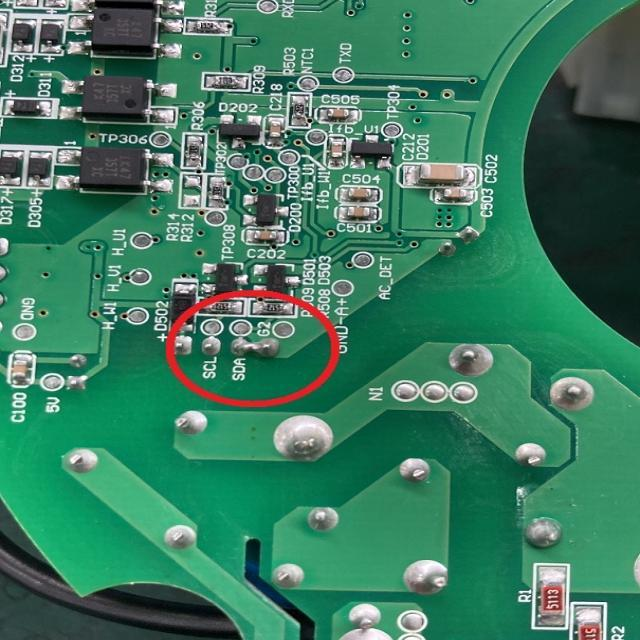Short_circuit: (231, 338, 280, 358)
